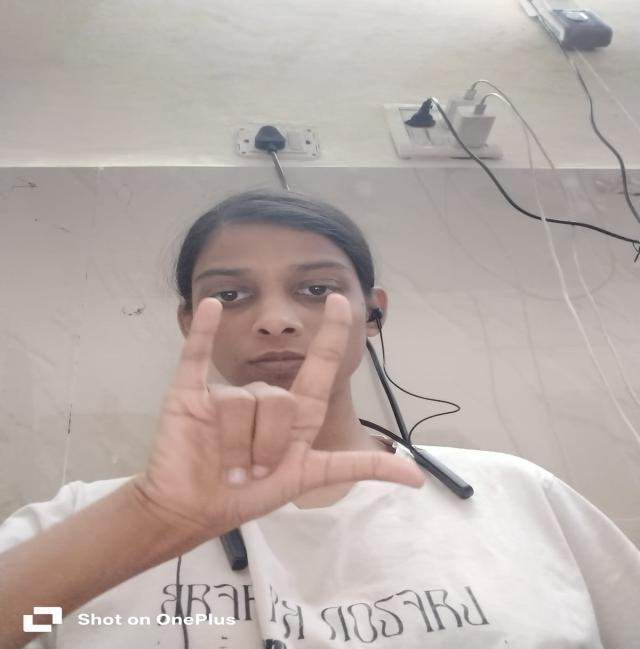I Love You: (144, 288, 437, 560)
